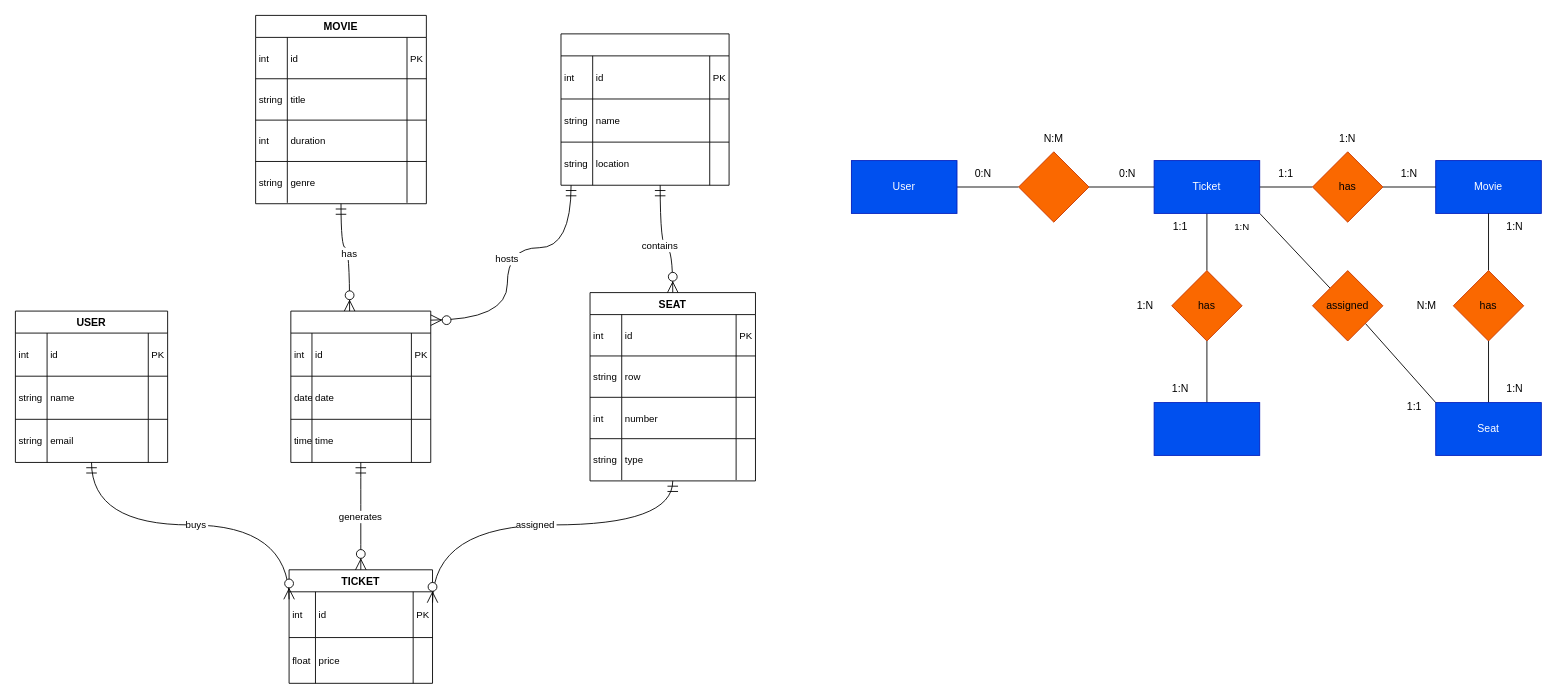
This 1557x699 diagram has some shape labels left out. The shapes that lost their labels are listed below. From the top down, each one's box as (x1, y1, x2, y2) in pixels, then its label:
(560, 33, 729, 185): MOVIETHEATER
(1018, 151, 1089, 222): buy
(290, 310, 431, 462): SCREENING
(1153, 402, 1260, 455): movie theater
